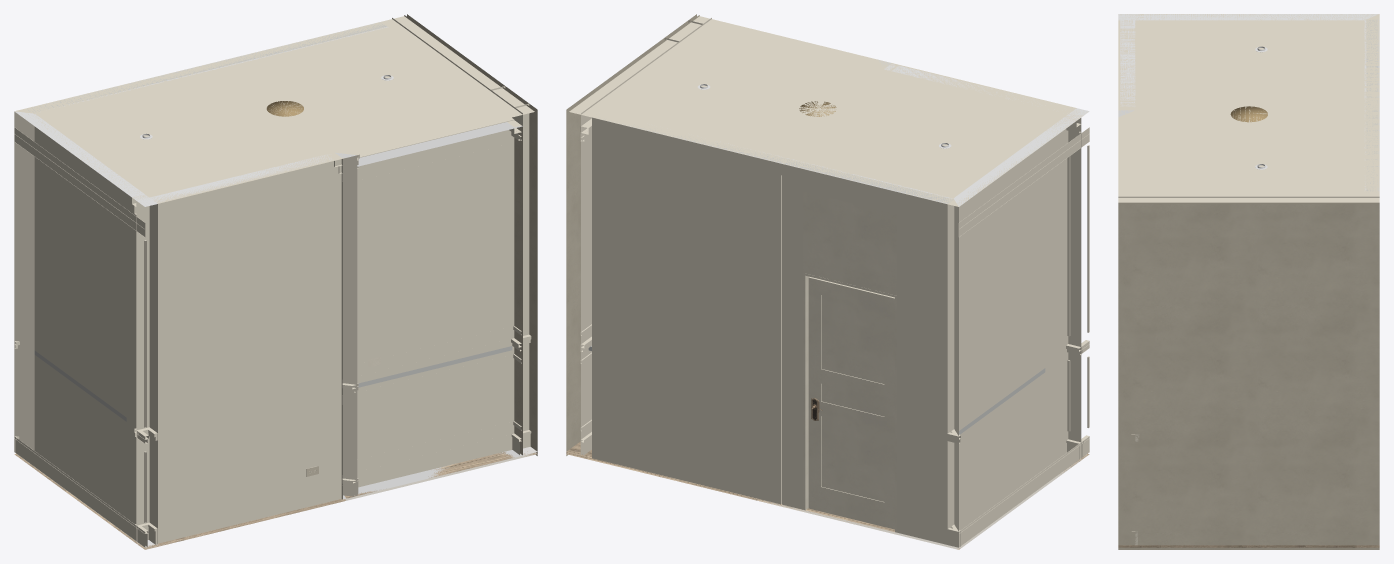
File: pantry-33e5fce29835.glb
3 views of the same model, side by side, from view 1: azimuth 30°, elevation 25°; view 2: azimuth 150°, elevation 25°; view 3: azimuth 270°, elevation 25° (orthographic).
Parts seen in each view (by area): view 1: pantry-e1ae12ec9cba52a2, pantry-e64cabe238f3e83a, pantry-2575515a05775d9e, pantry-5b6bbac285e58726, pantry-6a1144f4e43410bb, pantry-e462de76b61e99cf, pantry-1b1dac62f3b0f38e, pantry-ab25ce0be192bde7, pantry-2c29ddcb8551cb02, pantry-e54d813e60c9e7c4, pantry-3b0077416469e01b, pantry-4b4a529ae091588b (+10 smaller); view 2: pantry-bd4023b7987ad736, pantry-2575515a05775d9e, pantry-5b6bbac285e58726, pantry-90d279c9f3741083, pantry-af97eba351c411ae, pantry-151470939db8c09f, pantry-2c29ddcb8551cb02, pantry-b9e31e055fa428f9, pantry-e54d813e60c9e7c4, pantry-4b4a529ae091588b, pantry-6a1144f4e43410bb, pantry-3b0077416469e01b (+5 smaller); view 3: pantry-af97eba351c411ae, pantry-2575515a05775d9e, pantry-ab25ce0be192bde7, pantry-e462de76b61e99cf, pantry-4b4a529ae091588b, pantry-5b6bbac285e58726, pantry-e1ae12ec9cba52a2, pantry-ecf72e0057751250, pantry-710b1f455b9f0804, pantry-bd4023b7987ad736, pantry-deb6bd5c54985daf, pantry-3b0077416469e01b (+2 smaller).
Part boxes in pixels (box(x1,y1,x2,y2)): pantry-e1ae12ec9cba52a2: box(149, 154, 341, 543); pantry-e64cabe238f3e83a: box(342, 122, 522, 495); pantry-2575515a05775d9e: box(15, 15, 534, 203); pantry-5b6bbac285e58726: box(14, 111, 149, 540); pantry-6a1144f4e43410bb: box(136, 197, 157, 546); pantry-e462de76b61e99cf: box(514, 104, 537, 455); pantry-1b1dac62f3b0f38e: box(135, 434, 512, 524); pantry-ab25ce0be192bde7: box(490, 86, 529, 431); pantry-2c29ddcb8551cb02: box(14, 437, 145, 547); pantry-e54d813e60c9e7c4: box(14, 127, 145, 236); pantry-3b0077416469e01b: box(14, 451, 537, 549); pantry-4b4a529ae091588b: box(35, 27, 391, 116); pantry-bd4023b7987ad736: box(592, 117, 954, 544); pantry-2575515a05775d9e: box(569, 15, 1087, 206); pantry-5b6bbac285e58726: box(953, 114, 1081, 547); pantry-90d279c9f3741083: box(808, 277, 894, 529); pantry-af97eba351c411ae: box(566, 37, 679, 455); pantry-151470939db8c09f: box(803, 191, 896, 295); pantry-2c29ddcb8551cb02: box(959, 437, 1089, 547); pantry-b9e31e055fa428f9: box(803, 273, 896, 532); pantry-e54d813e60c9e7c4: box(958, 127, 1089, 236); pantry-4b4a529ae091588b: box(601, 110, 957, 198); pantry-6a1144f4e43410bb: box(1068, 108, 1089, 440); pantry-3b0077416469e01b: box(566, 441, 1089, 549); pantry-af97eba351c411ae: box(1183, 196, 1379, 545); pantry-2575515a05775d9e: box(1118, 14, 1379, 203); pantry-ab25ce0be192bde7: box(1135, 196, 1182, 545); pantry-e462de76b61e99cf: box(1118, 196, 1135, 545); pantry-4b4a529ae091588b: box(1355, 20, 1364, 192); pantry-5b6bbac285e58726: box(1135, 14, 1378, 20); pantry-e1ae12ec9cba52a2: box(1120, 20, 1135, 106); pantry-ecf72e0057751250: box(1368, 19, 1376, 192); pantry-710b1f455b9f0804: box(1135, 14, 1144, 109); pantry-bd4023b7987ad736: box(1364, 19, 1379, 191); pantry-deb6bd5c54985daf: box(1144, 20, 1355, 24); pantry-3b0077416469e01b: box(1118, 545, 1379, 547).
Bounding box in the file's own units: 3.62 × 3.05 × 2.09.
Materials: 24 (4 with a texture image).
